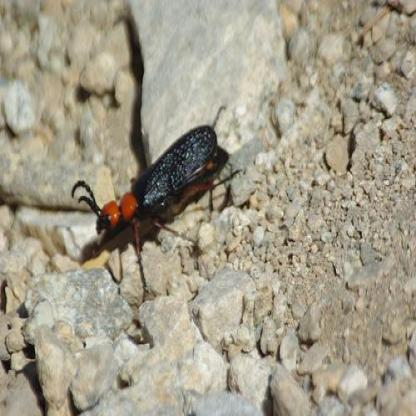beetle: (66, 121, 236, 271)
